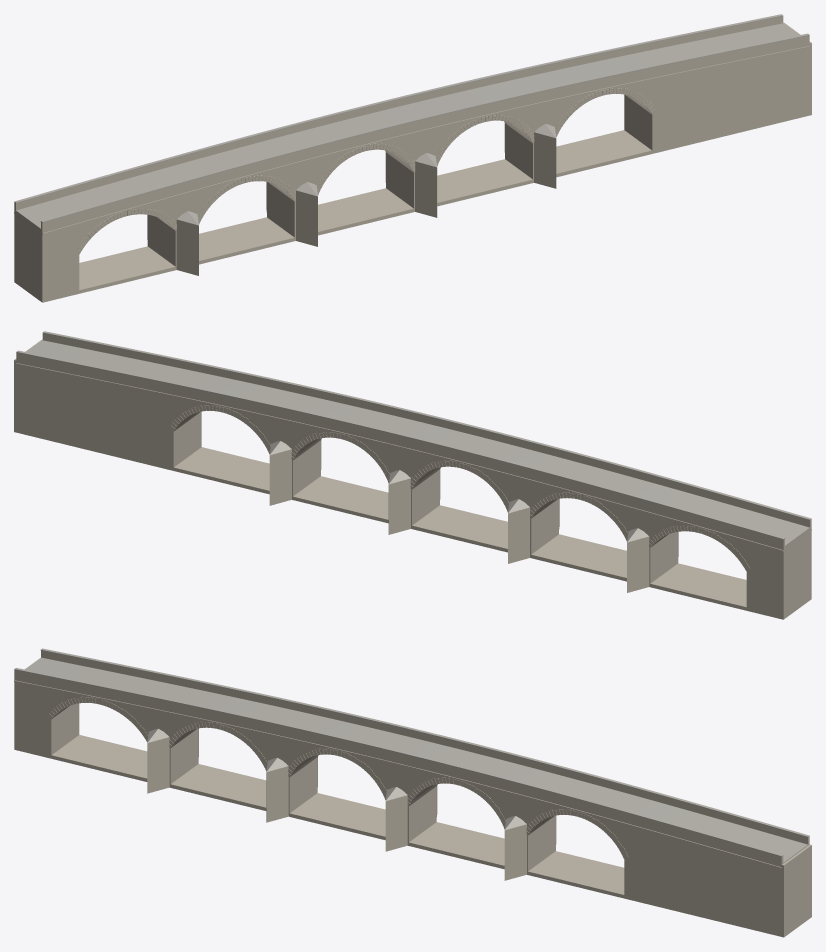
Rendered from ponte.glb.
3 views of the same model, one above another, from view 1: azimuth 30°, elevation 25°; view 2: azimuth 150°, elevation 25°; view 3: azimuth 330°, elevation 25° (orthographic).
Visible parts, largest first — view 1: ponte; view 2: ponte; view 3: ponte.
Part boxes in pixels (<box>): ponte: <box>14,14,811,302</box>; ponte: <box>14,331,811,619</box>; ponte: <box>14,648,811,937</box>.
Size of the model in its own units: 114 by 12.97 by 13.28.
